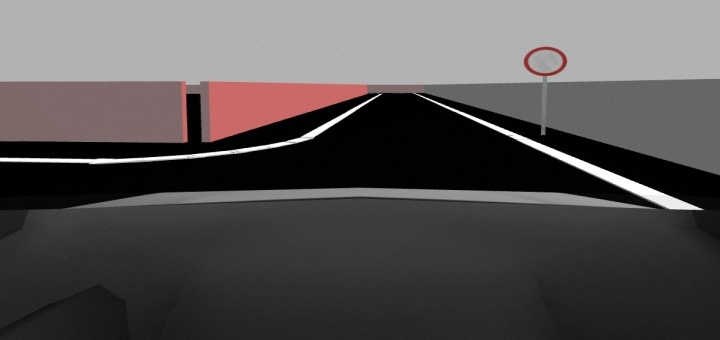girilmez: (525, 47, 569, 80)
